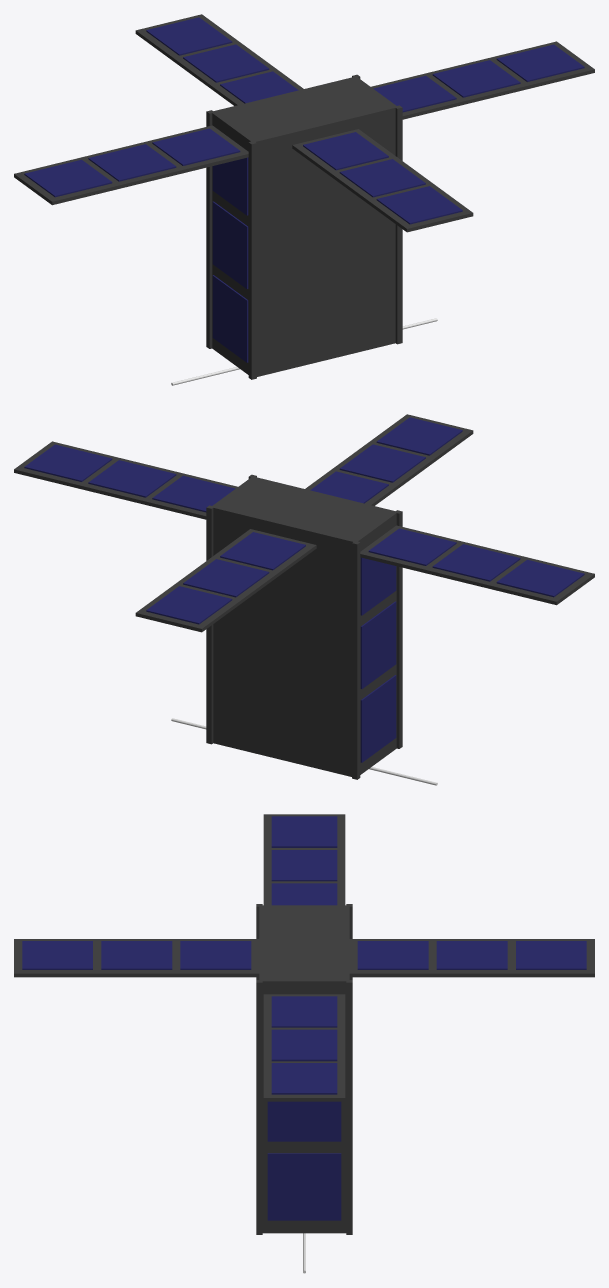
The model's file is cubesat_6u.glb.
The picture shows the model from 3 angles, top to bottom: view 1: azimuth 30°, elevation 25°; view 2: azimuth 150°, elevation 25°; view 3: azimuth 270°, elevation 25°; orthographic projection. The views are drawn at different scales.
Parts seen in each view (by area): view 1: Chassis_6U, Panel_X_Neg_Frame, Panel_Y_Neg_Frame, Panel_X_Pos_Frame, Cell_X_-1_0, Cell_X_-1_1, Panel_Y_Pos_Frame, Rail_-1_-1, Panel_X_Neg_Cell_1, Panel_X_Pos_Cell_2, Panel_X_Neg_Cell_0, Panel_X_Pos_Cell_1 (+11 smaller); view 2: Chassis_6U, Panel_X_Neg_Frame, Panel_Y_Pos_Frame, Panel_X_Pos_Frame, Cell_X_-1_0, Cell_X_-1_1, Panel_Y_Neg_Frame, Rail_-1_1, Panel_X_Neg_Cell_1, Panel_X_Pos_Cell_2, Panel_X_Neg_Cell_0, Panel_X_Pos_Cell_1 (+11 smaller); view 3: Chassis_6U, Cell_X_1_0, Panel_Y_Neg_Frame, Panel_Y_Pos_Frame, Cell_X_1_1, Panel_X_Pos_Frame, Panel_X_Pos_Cell_1, Panel_X_Neg_Frame, Panel_X_Neg_Cell_2, Panel_X_Pos_Cell_0, Panel_X_Pos_Cell_2, Panel_X_Neg_Cell_1 (+9 smaller).
Boxes of the visible parts, x1,y1,x2,y2 form: Chassis_6U: [211, 77, 397, 376]; Panel_X_Neg_Frame: [14, 125, 248, 205]; Panel_Y_Neg_Frame: [292, 129, 473, 232]; Panel_X_Pos_Frame: [371, 41, 594, 119]; Cell_X_-1_0: [212, 275, 248, 362]; Cell_X_-1_1: [212, 201, 248, 288]; Panel_Y_Pos_Frame: [135, 14, 303, 105]; Rail_-1_-1: [248, 141, 256, 379]; Panel_X_Neg_Cell_1: [88, 144, 176, 181]; Panel_X_Pos_Cell_2: [496, 44, 584, 81]; Panel_X_Neg_Cell_0: [152, 128, 240, 165]; Panel_X_Pos_Cell_1: [432, 60, 520, 97]; Chassis_6U: [211, 477, 397, 776]; Panel_X_Neg_Frame: [360, 525, 594, 605]; Panel_Y_Pos_Frame: [135, 529, 316, 632]; Panel_X_Pos_Frame: [14, 441, 237, 519]; Cell_X_-1_0: [360, 675, 396, 762]; Cell_X_-1_1: [360, 601, 396, 688]; Panel_Y_Neg_Frame: [305, 414, 473, 505]; Rail_-1_1: [352, 541, 360, 779]; Panel_X_Neg_Cell_1: [432, 544, 520, 581]; Panel_X_Pos_Cell_2: [24, 444, 112, 481]; Panel_X_Neg_Cell_0: [368, 528, 456, 565]; Panel_X_Pos_Cell_1: [88, 460, 176, 497]; Chassis_6U: [259, 905, 349, 1233]; Cell_X_1_0: [267, 1153, 341, 1220]; Panel_Y_Neg_Frame: [14, 939, 259, 977]; Panel_Y_Pos_Frame: [349, 939, 594, 977]; Cell_X_1_1: [267, 1101, 341, 1141]; Panel_X_Pos_Frame: [263, 994, 345, 1101]; Panel_X_Pos_Cell_1: [271, 1029, 337, 1061]; Panel_X_Neg_Frame: [263, 814, 345, 905]; Panel_X_Neg_Cell_2: [271, 816, 337, 847]; Panel_X_Pos_Cell_0: [271, 996, 337, 1027]; Panel_X_Pos_Cell_2: [271, 1063, 337, 1094]; Panel_X_Neg_Cell_1: [271, 850, 337, 881].
Bounding box in the file's own units: 0.82 × 0.352 × 0.71.
